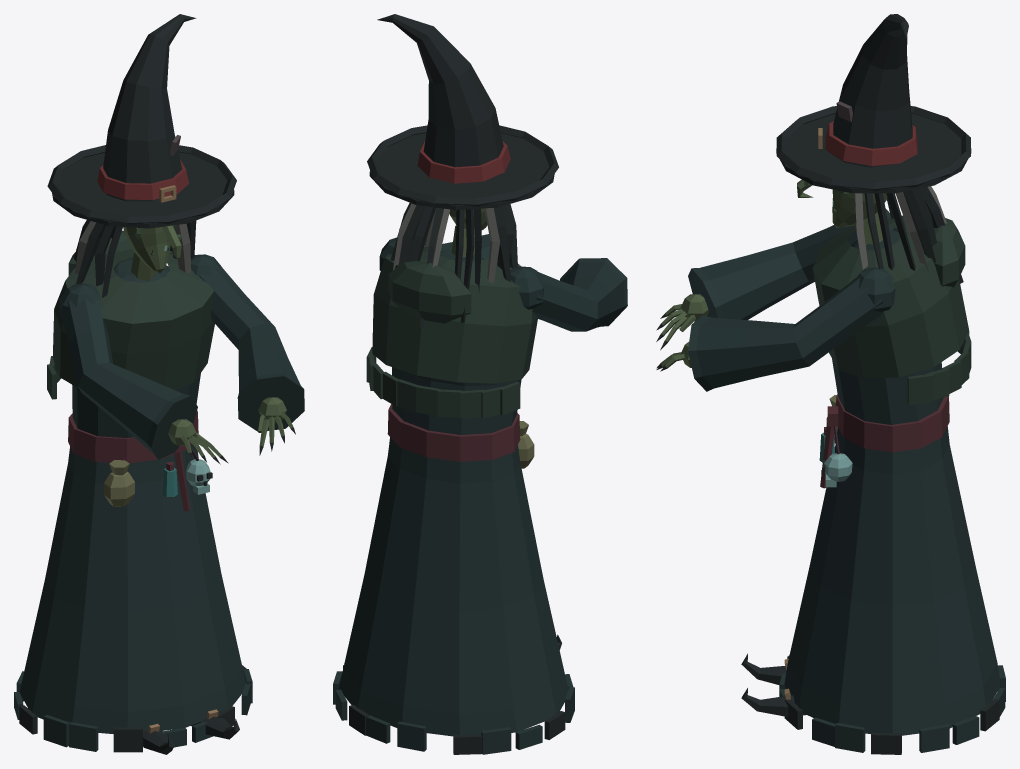
The model's file is vrajitoare_1.glb.
The picture shows the model from 3 angles, left to right: view 1: azimuth 30°, elevation 25°; view 2: azimuth 150°, elevation 25°; view 3: azimuth 270°, elevation 25°; orthographic projection. The views are drawn at different scales.
Parts seen in each view (by area): view 1: Corp, Cap, Brate; view 2: Corp, Cap, Brate; view 3: Corp, Cap, Brate.
Boxes of the visible parts, x1=… form: Corp: x1=14, y1=230, x2=252, y2=754; Cap: x1=47, y1=14, x2=236, y2=297; Brate: x1=60, y1=254, x2=304, y2=464; Corp: x1=333, y1=243, x2=574, y2=754; Cap: x1=367, y1=14, x2=558, y2=327; Brate: x1=379, y1=234, x2=627, y2=331; Corp: x1=741, y1=215, x2=1005, y2=754; Cap: x1=776, y1=14, x2=971, y2=283; Brate: x1=656, y1=209, x2=898, y2=391.
Bounding box in the file's own units: 0.7055 × 2.16 × 0.9688.
